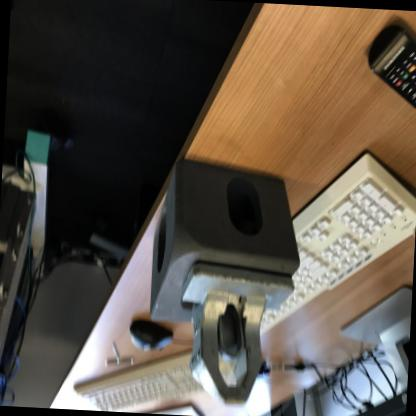CornerCasting: (132, 155, 305, 326)
Twistlock: (174, 259, 302, 410)
